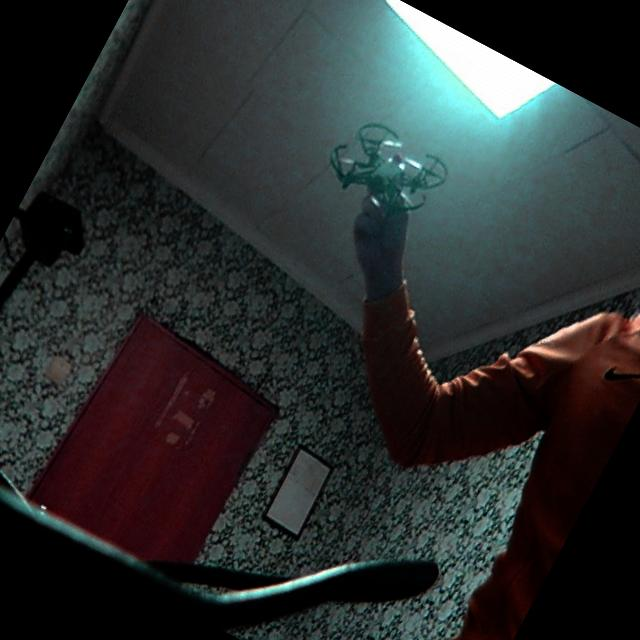drone: (314, 87, 468, 235)
